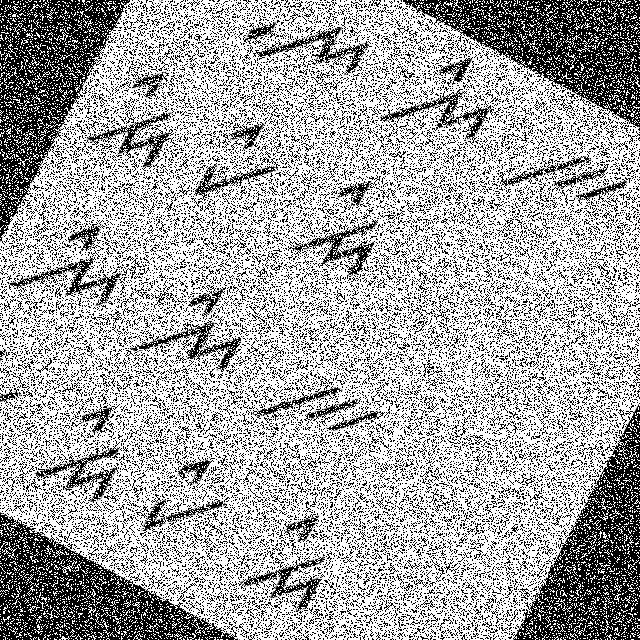di: (224, 488, 357, 630), (18, 380, 150, 522), (284, 156, 406, 288), (76, 49, 198, 180)
ni: (122, 256, 268, 402), (0, 192, 146, 338), (374, 28, 516, 168)
pi: (179, 104, 300, 230), (128, 438, 244, 566), (0, 327, 44, 460), (151, 0, 270, 33)
